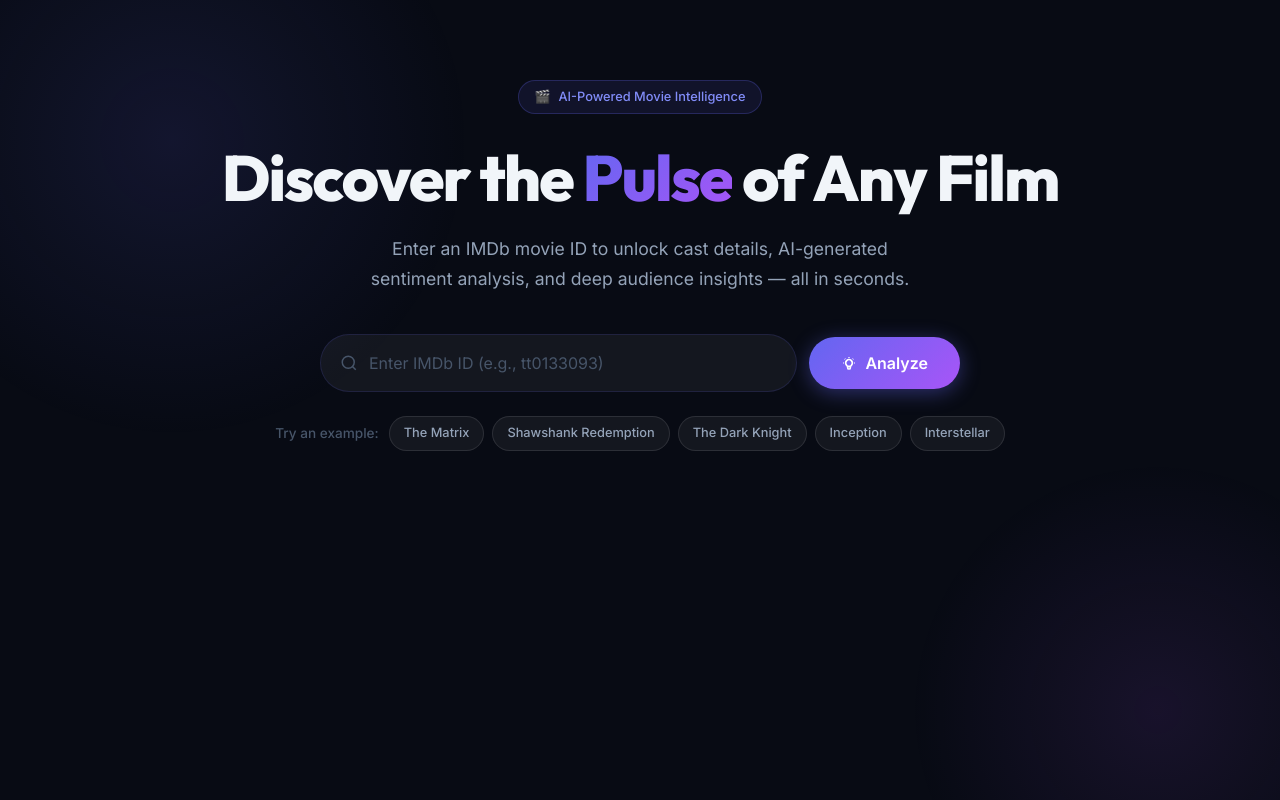
Test: SearchForm Component › Validation › shows error for invalid IMDb ID format
The image size is (1280, 800).
Step 1. Type "invalid-id" into the field named "IMDb Movie ID" → (559, 363), box left=320, top=334, right=797, bottom=392
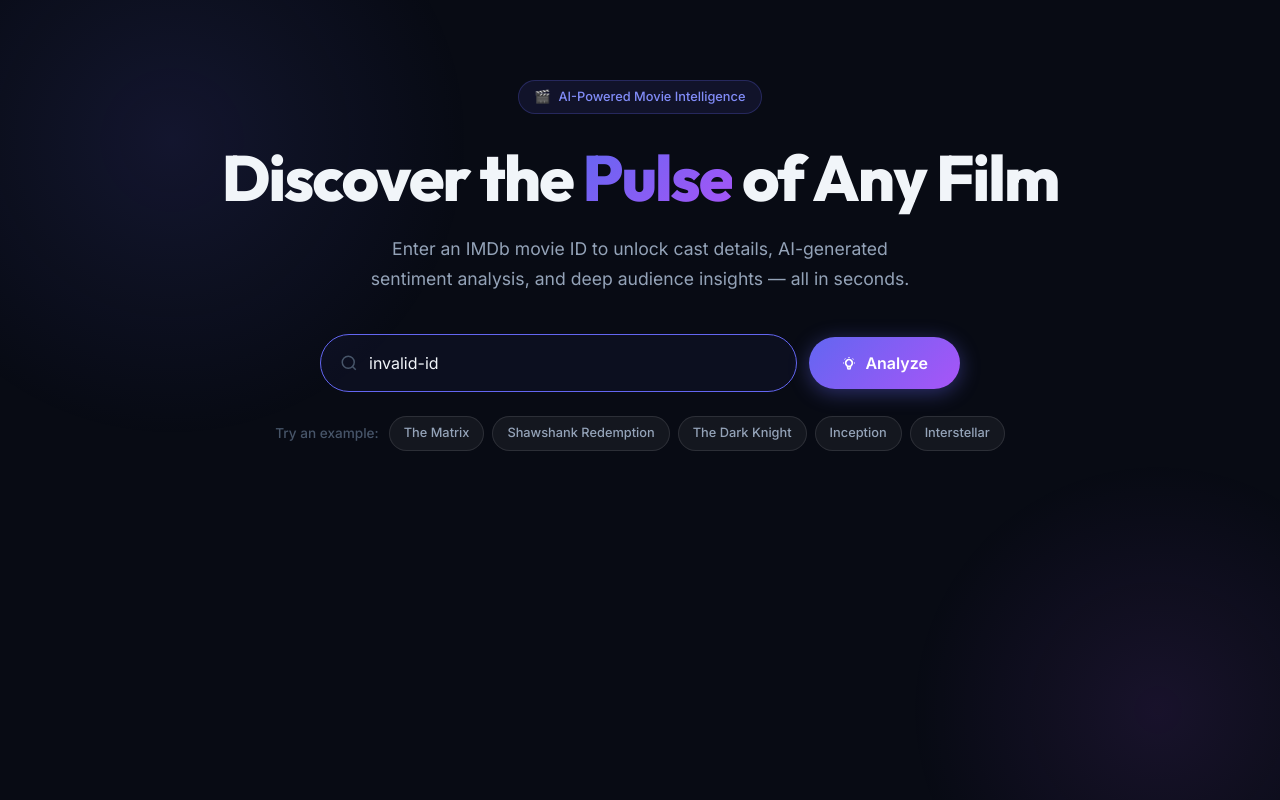
Step 2. Click the button with aria-label "analyze movie" → click(885, 363), box left=809, top=337, right=960, bottom=389
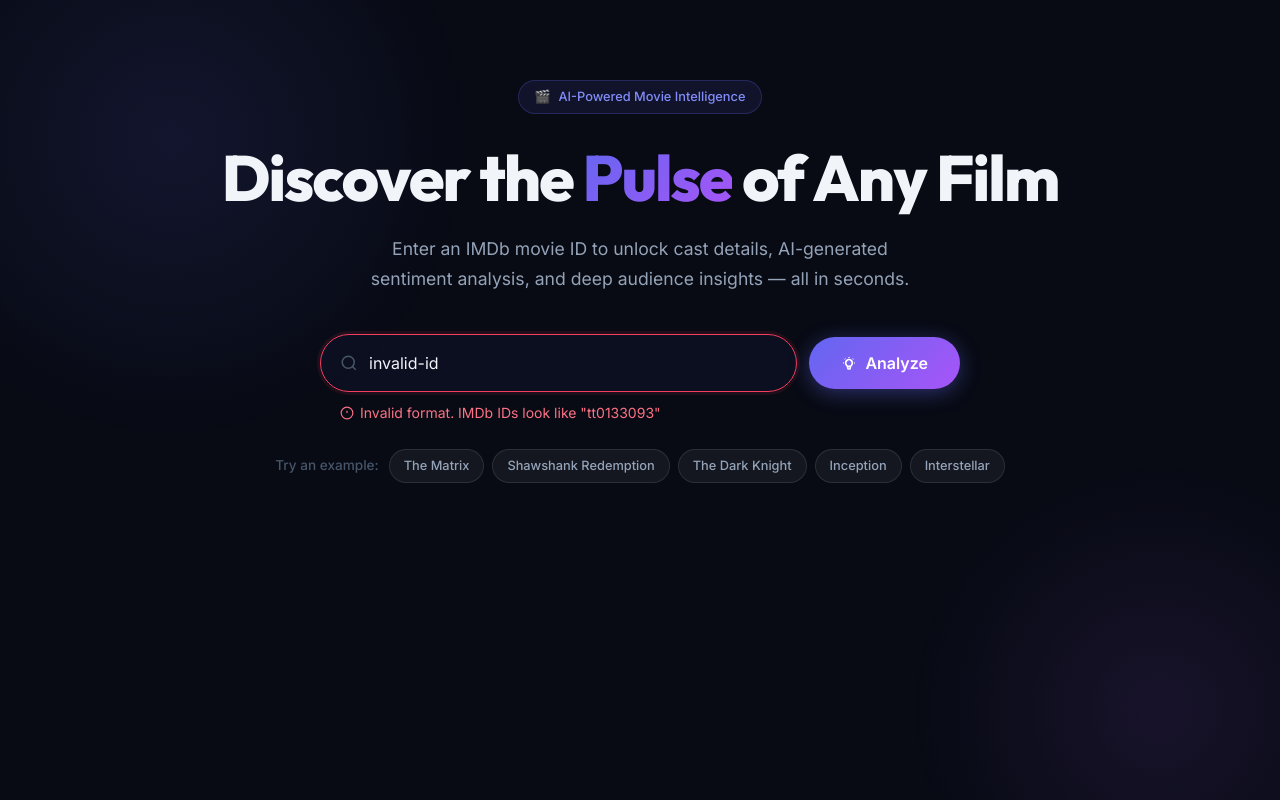
Check: the message shows "Invalid format", box left=360, top=404, right=661, bottom=421
